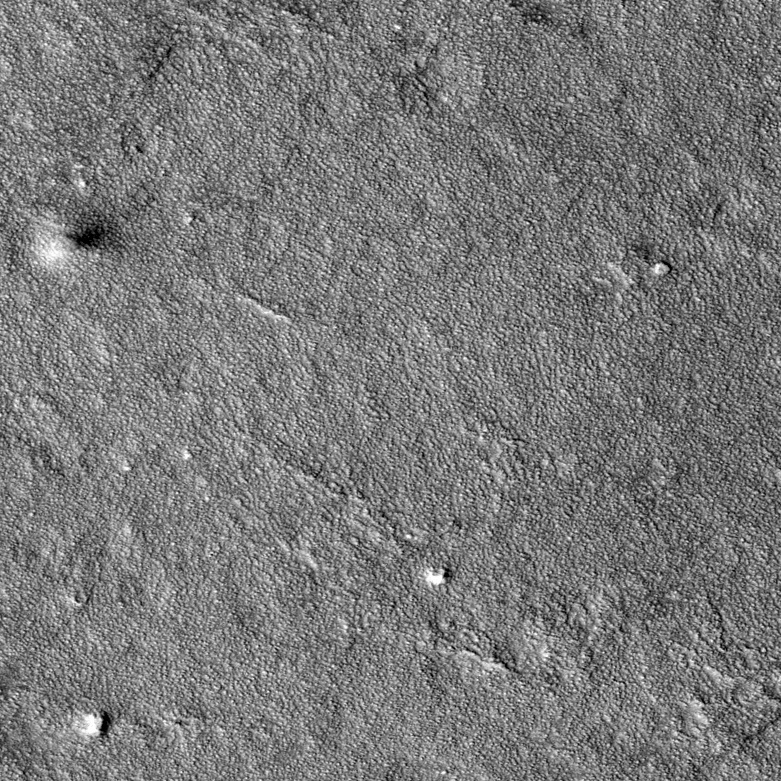dust_devil: (31, 206, 125, 272)
